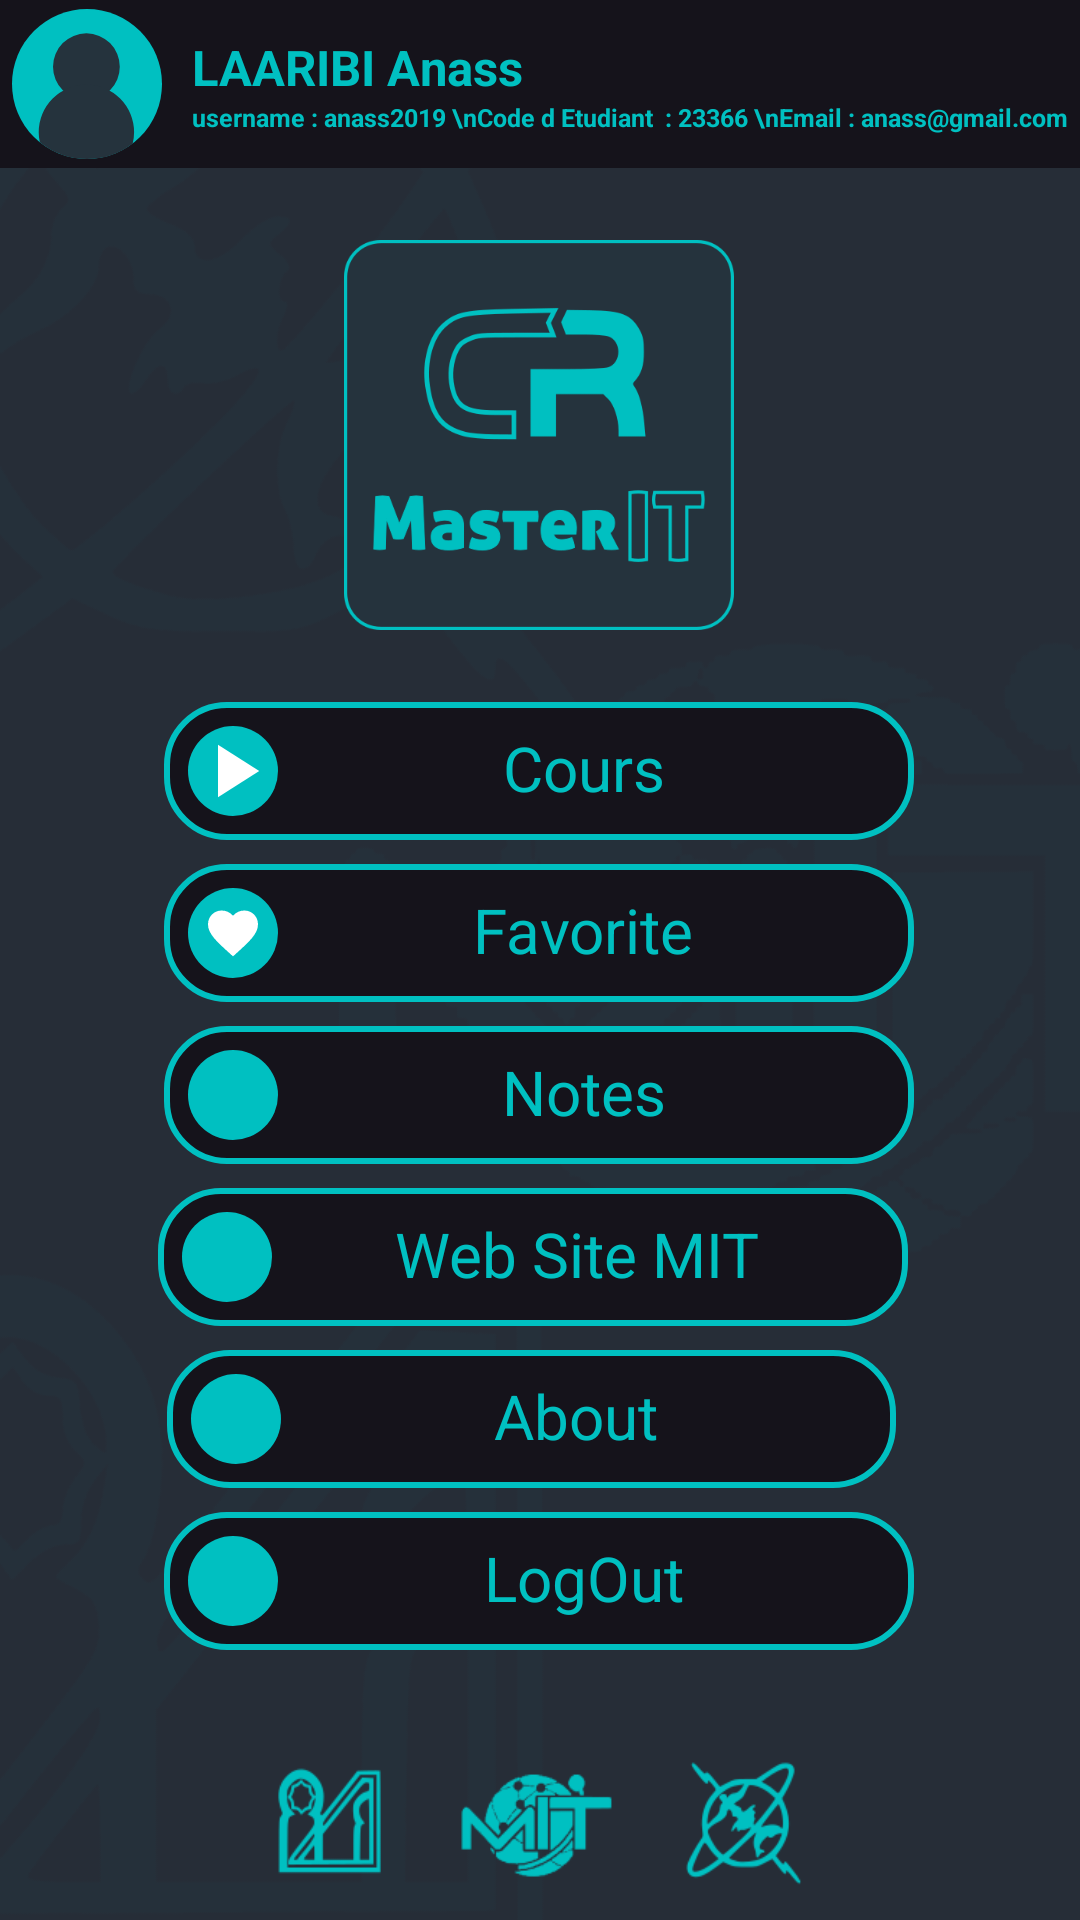

Icon click points for this 1080*1920 phone screenshot, format (x,y):
fav: (233,933)
play arrow: (233,771)
